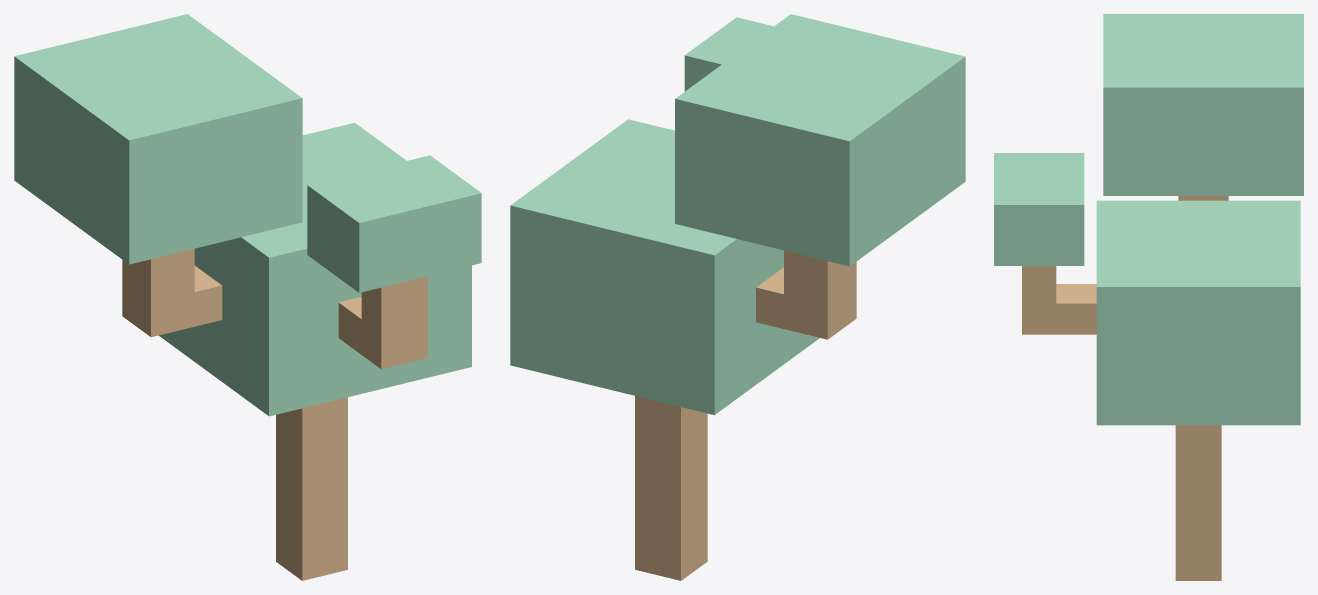
The model's file is ArbolCuatro.fbx.
The picture shows the model from 3 angles, left to right: view 1: azimuth 30°, elevation 25°; view 2: azimuth 150°, elevation 25°; view 3: azimuth 270°, elevation 25°; orthographic projection. The views are drawn at different scales.
Parts seen in each view (by area): view 1: ArbolCuatro; view 2: ArbolCuatro; view 3: ArbolCuatro.
Part boxes in pixels (x1,y1,x2,y2): ArbolCuatro: [14, 14, 481, 580]; ArbolCuatro: [510, 14, 965, 580]; ArbolCuatro: [994, 14, 1303, 580].
Size of the model in its own units: 1095 by 1616 by 994.
